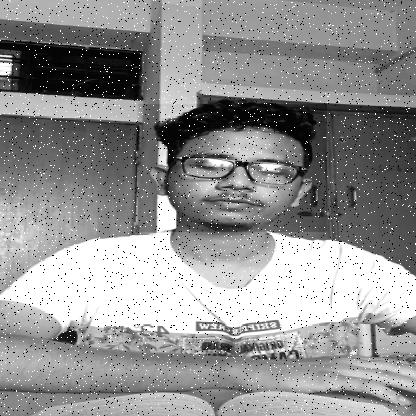Normal: (138, 104, 327, 233)
